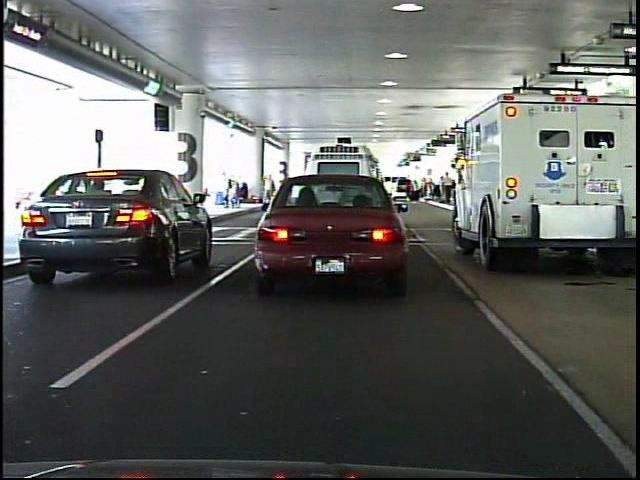person: (260, 171, 277, 207)
